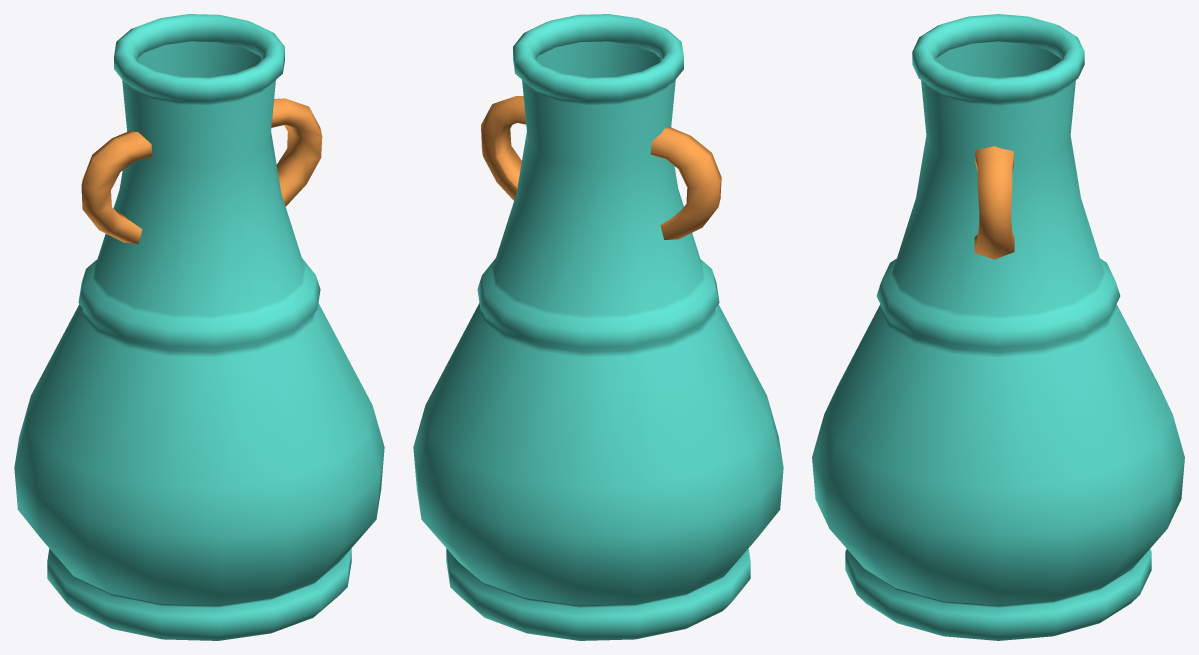
File: Vase4.fbx
3 renders of one model, left to right at view 1: azimuth 30°, elevation 25°; view 2: azimuth 150°, elevation 25°; view 3: azimuth 270°, elevation 25°, orthographic.
Visible parts, largest first — view 1: BezierCurve.013; view 2: BezierCurve.013; view 3: BezierCurve.013.
Part boxes in pixels (left/top/right/bottom): BezierCurve.013: left=14, top=14, right=384, bottom=640; BezierCurve.013: left=413, top=14, right=783, bottom=640; BezierCurve.013: left=812, top=14, right=1184, bottom=640.
Bounding box in the file's own units: 273 × 430 × 273.
